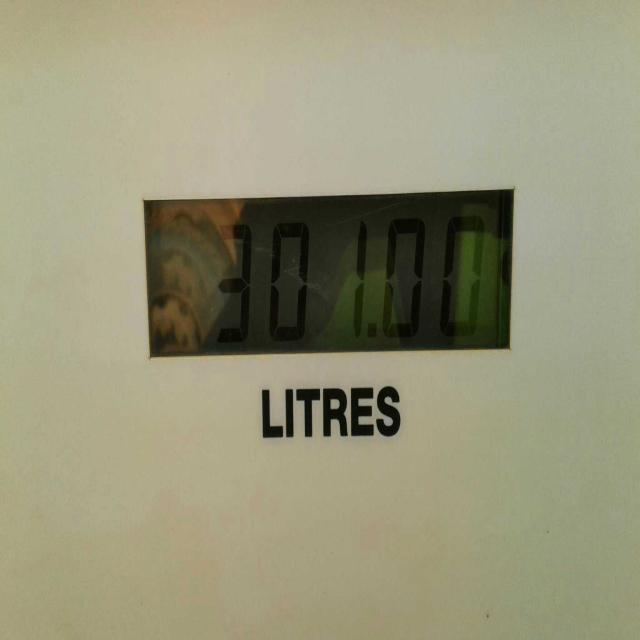.: (366, 311, 379, 351)
0: (438, 208, 490, 338), (265, 216, 315, 350), (381, 210, 430, 343)
1: (338, 204, 374, 360)
3: (206, 210, 256, 349)
